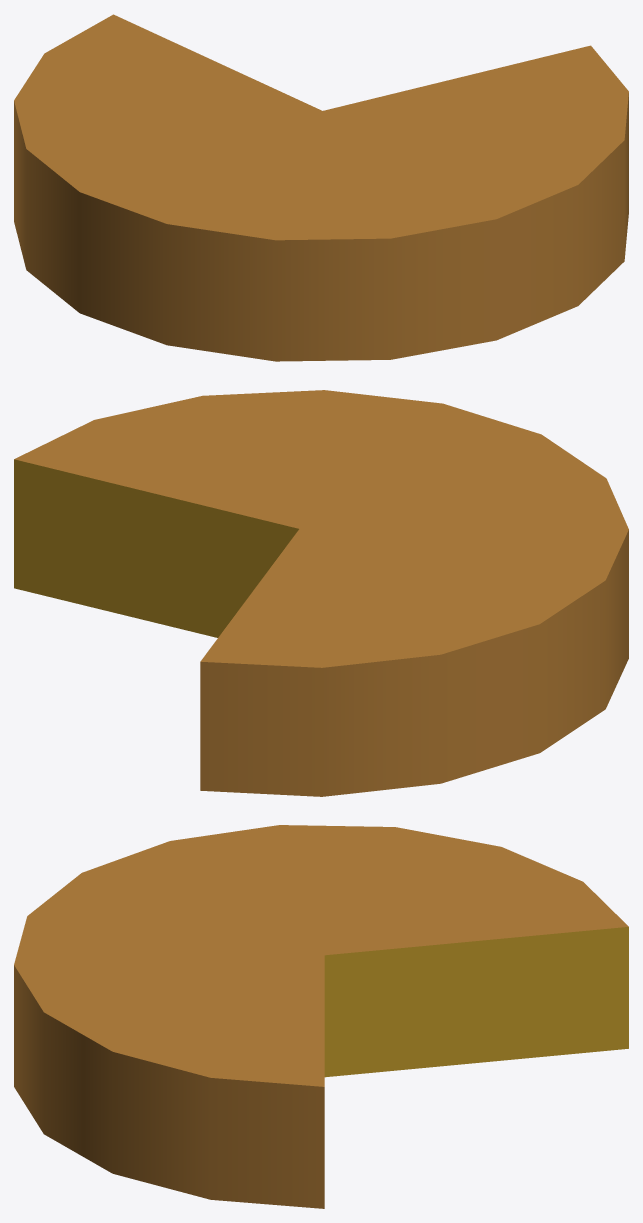
The model's file is Meule_De_Fromage.fbx.
The picture shows the model from 3 angles, top to bottom: view 1: azimuth 30°, elevation 25°; view 2: azimuth 150°, elevation 25°; view 3: azimuth 270°, elevation 25°; orthographic projection. The views are drawn at different scales.
Visible parts, largest first — view 1: Meule_De_Fromage; view 2: Meule_De_Fromage; view 3: Meule_De_Fromage.
Boxes of the visible parts, x1,y1,x2,y2 form: Meule_De_Fromage: (14,14,628,361); Meule_De_Fromage: (14,390,628,796); Meule_De_Fromage: (14,825,628,1208).
Size of the model in its own units: 64.29 by 13.96 by 63.78.
1 material, 1 textured.
